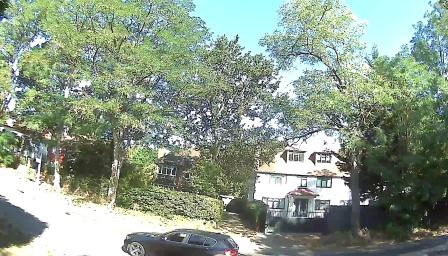Cars: (121, 225, 241, 254)
